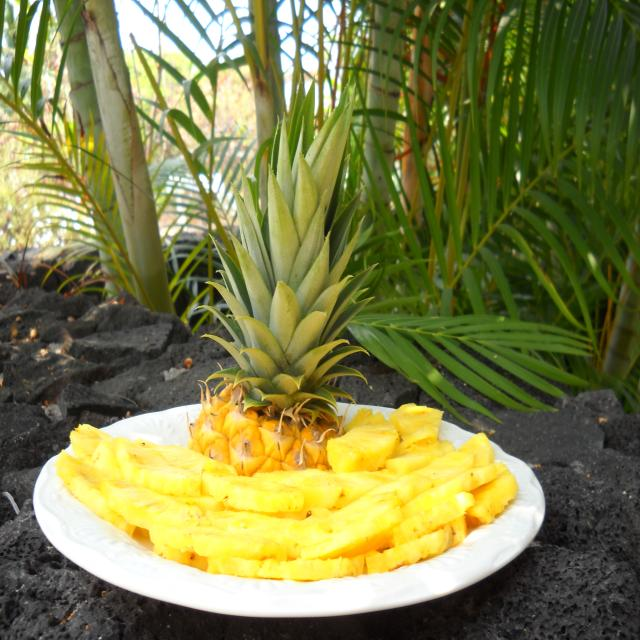Pineapple: (56, 403, 518, 582), (189, 88, 368, 475)
